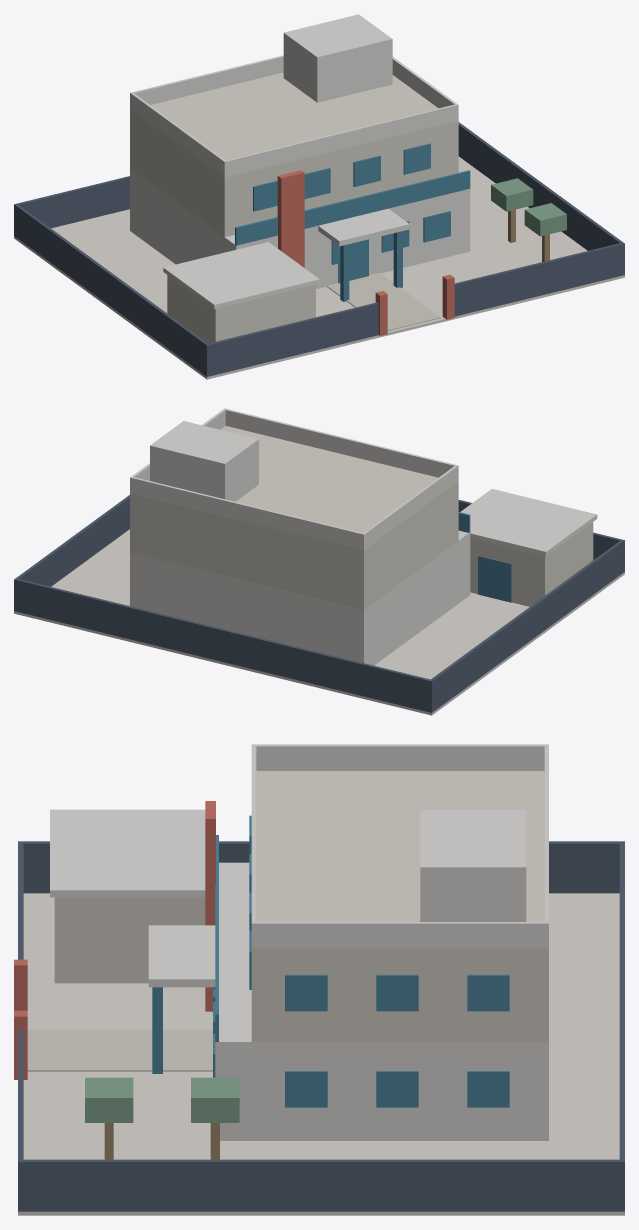
Rendered from parcel.glb.
3 renders of one model, top to bottom at view 1: azimuth 30°, elevation 25°; view 2: azimuth 150°, elevation 25°; view 3: azimuth 270°, elevation 25°, orthographic. The views are drawn at different scales.
Parts seen in each view (by area): view 1: villa; view 2: villa; view 3: villa.
Part boxes in pixels (x1,y1,x2,y2): villa: [14, 14, 624, 379]; villa: [14, 408, 624, 715]; villa: [14, 744, 624, 1215].
Size of the model in its own units: 0.25 by 0.0975 by 0.2014.
